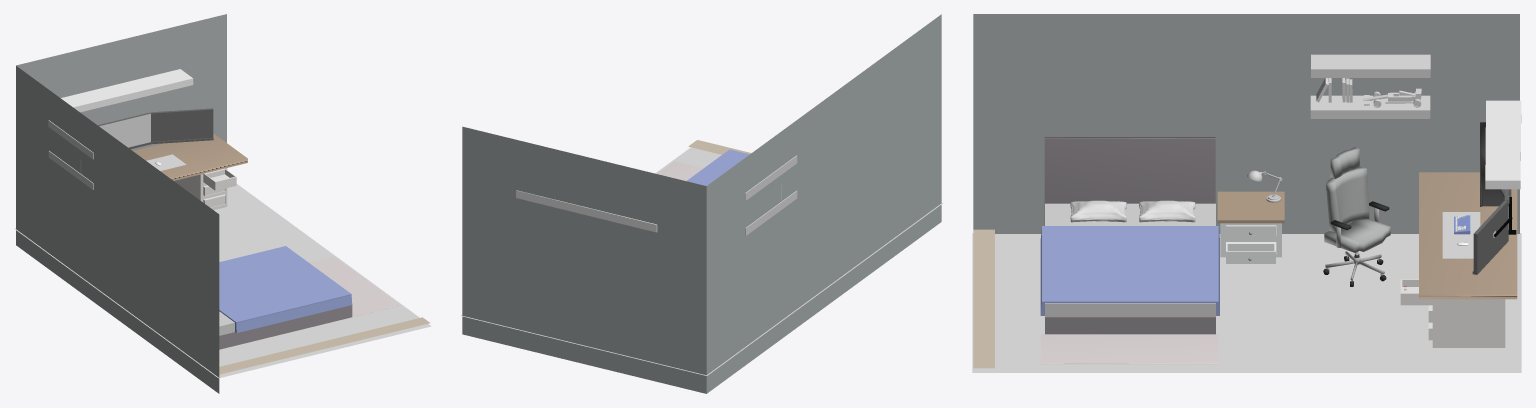
The model's file is room.glb.
The picture shows the model from 3 angles, left to right: view 1: azimuth 30°, elevation 25°; view 2: azimuth 150°, elevation 25°; view 3: azimuth 270°, elevation 25°; orthographic projection. The views are drawn at different scales.
Parts seen in each view (by area): view 1: wall.001, floor base, mattress.001, computer, desk, Cube.008, carpet, wood floor, bed frame, drawer 2, Cube.003; view 2: wall.001, floor base, Cube.008, mattress.001, carpet, Cube.005, Cube.006; view 3: wall.001, floor base, mattress.001, backboard, desk, carpet, chair, drawer 2, mattress, bed frame, Cube.008, wood floor (+10 smaller).
Boxes of the visible parts, left/top/right/bottom form: wall.001: left=16, top=14, right=226, bottom=393; floor base: left=14, top=184, right=431, bottom=378; mattress.001: left=219, top=246, right=351, bottom=332; computer: left=98, top=108, right=213, bottom=149; desk: left=133, top=133, right=247, bottom=180; Cube.008: left=61, top=69, right=193, bottom=112; carpet: left=309, top=256, right=399, bottom=316; wood floor: left=219, top=317, right=430, bottom=374; bed frame: left=219, top=303, right=352, bottom=349; drawer 2: left=174, top=168, right=236, bottom=209; Cube.003: left=146, top=154, right=186, bottom=170; wall.001: left=462, top=14, right=941, bottom=393; floor base: left=461, top=147, right=942, bottom=375; Cube.008: left=516, top=190, right=657, bottom=232; mattress.001: left=686, top=149, right=749, bottom=185; carpet: left=657, top=161, right=703, bottom=180; Cube.005: left=745, top=190, right=797, bottom=235; Cube.006: left=745, top=155, right=797, bottom=200; wall.001: left=973, top=14, right=1519, bottom=233; floor base: left=972, top=233, right=1521, bottom=372; mattress.001: left=1040, top=226, right=1219, bottom=315; backboard: left=1044, top=137, right=1215, bottom=225; desk: left=1419, top=172, right=1517, bottom=299; carpet: left=1040, top=334, right=1218, bottom=364; chair: left=1323, top=147, right=1390, bottom=286; drawer 2: left=1400, top=279, right=1505, bottom=347; mattress: left=1045, top=203, right=1215, bottom=316; bed frame: left=1045, top=316, right=1215, bottom=334; Cube.008: left=1485, top=100, right=1521, bottom=189; wood floor: left=973, top=229, right=994, bottom=368.
Size of what is drawn, in the model's own units: 5.44 by 4.38 by 9.04.
